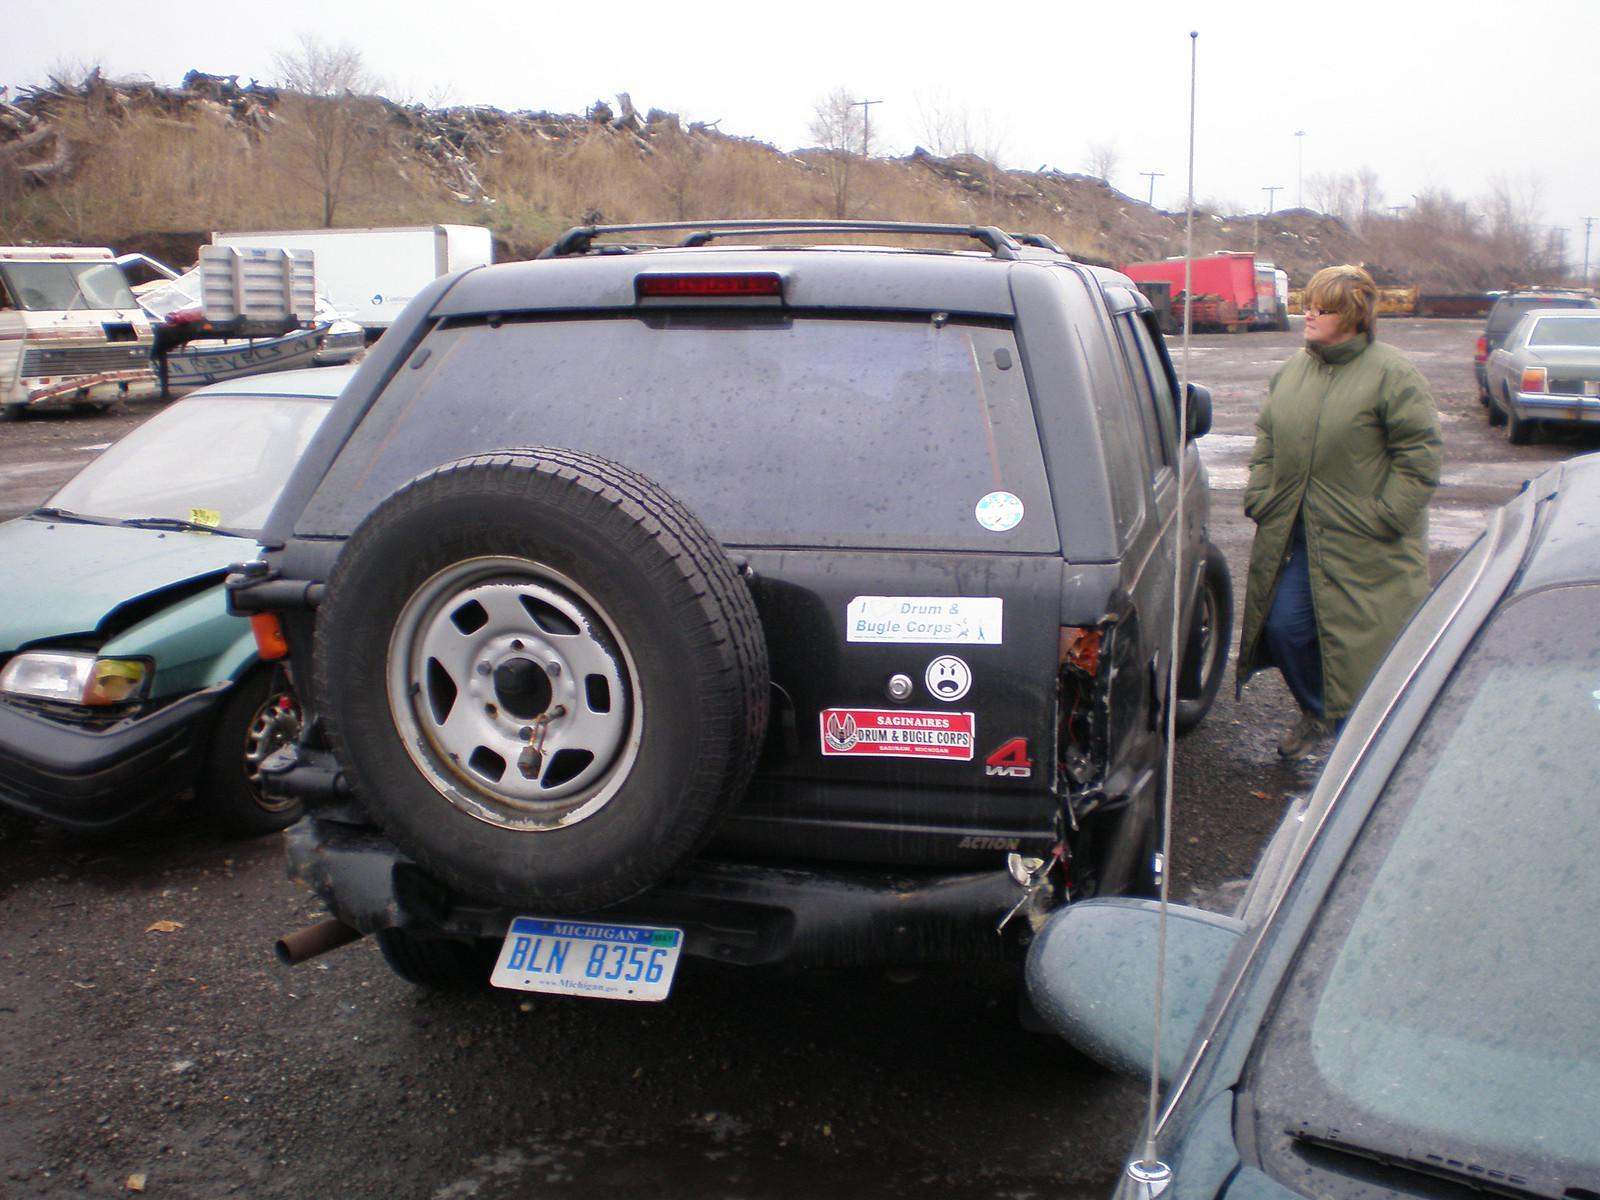boot-dent: (215, 574, 1107, 896)
